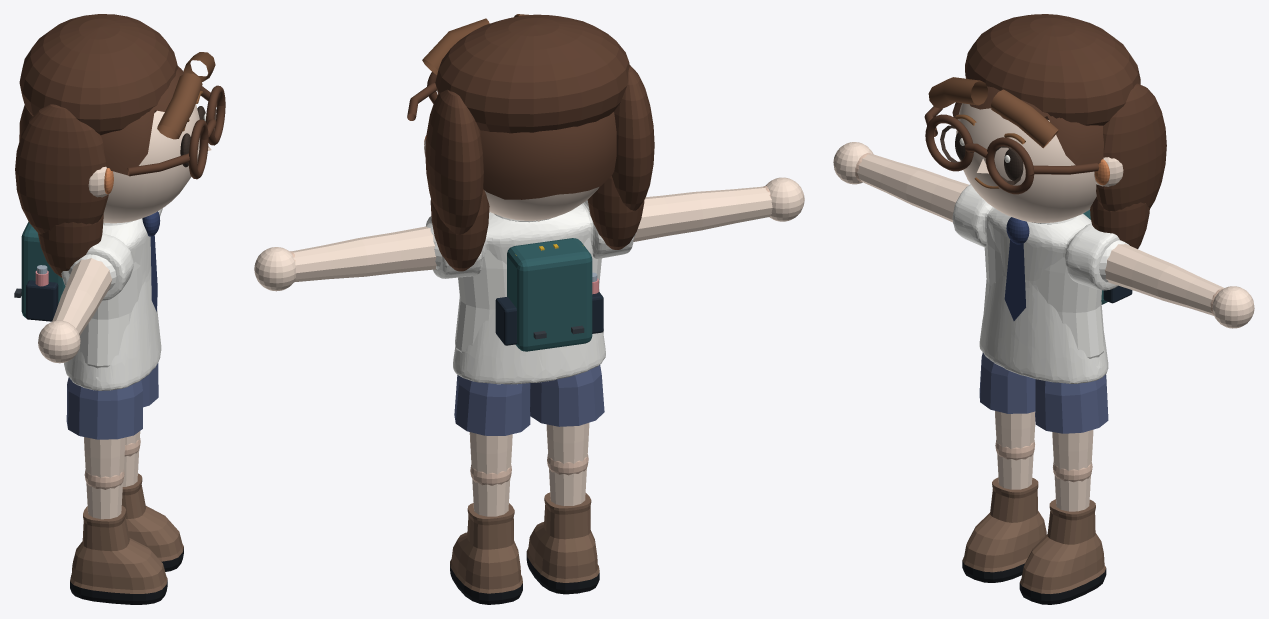
Rendered from Girl_School_Bag.glb.
3 renders of one model, left to right at view 1: azimuth 30°, elevation 25°; view 2: azimuth 150°, elevation 25°; view 3: azimuth 270°, elevation 25°, orthographic. The views are drawn at different scales.
Visible parts, largest first — view 1: Girl_School_Bag_Mesh_NPC_17_Penelope, Girl_School_Bag_Hair_Crown, Girl_School_Bag_Hair_Side_-1, Girl_School_Bag_Closed_Shirt_Liner, Girl_School_Bag_Backpack, Girl_School_Bag_Hair_Lock_-1, Girl_School_Bag_Fringe_-1, Girl_School_Bag, Girl_School_Bag_Glasses_Rim_-1, Girl_School_Bag_Glasses_Temple_-1, Girl_School_Bag_Knee_Seam_-1, Girl_School_Bag_Tie_Body (+2 smaller); view 2: Girl_School_Bag_Mesh_NPC_17_Penelope, Girl_School_Bag_Hair_Crown, Girl_School_Bag, Girl_School_Bag_Backpack, Girl_School_Bag_Hair_Side_-1, Girl_School_Bag_Closed_Shirt_Liner, Girl_School_Bag_Hair_Lock_-1; view 3: Girl_School_Bag_Mesh_NPC_17_Penelope, Girl_School_Bag_Hair_Crown, Girl_School_Bag, Girl_School_Bag_Closed_Shirt_Liner, Girl_School_Bag_Fringe_-1, Girl_School_Bag_Tie_Body, Girl_School_Bag_Glasses_Rim_-1.
Part boxes in pixels (left/top/right/bottom): Girl_School_Bag_Mesh_NPC_17_Penelope: left=19, top=66, right=216, bottom=604; Girl_School_Bag_Hair_Crown: left=19, top=14, right=177, bottom=135; Girl_School_Bag_Hair_Side_-1: left=15, top=104, right=108, bottom=234; Girl_School_Bag_Closed_Shirt_Liner: left=79, top=262, right=143, bottom=368; Girl_School_Bag_Backpack: left=14, top=222, right=65, bottom=321; Girl_School_Bag_Hair_Lock_-1: left=38, top=213, right=103, bottom=277; Girl_School_Bag_Fringe_-1: left=157, top=73, right=202, bottom=139; Girl_School_Bag: left=124, top=52, right=225, bottom=456; Girl_School_Bag_Glasses_Rim_-1: left=188, top=119, right=208, bottom=179; Girl_School_Bag_Glasses_Temple_-1: left=127, top=153, right=189, bottom=176; Girl_School_Bag_Knee_Seam_-1: left=84, top=469, right=124, bottom=489; Girl_School_Bag_Tie_Body: left=150, top=235, right=157, bottom=311; Girl_School_Bag_Mesh_NPC_17_Penelope: left=254, top=95, right=804, bottom=604; Girl_School_Bag_Hair_Crown: left=435, top=14, right=629, bottom=133; Girl_School_Bag: left=290, top=18, right=511, bottom=485; Girl_School_Bag_Backpack: left=495, top=238, right=603, bottom=351; Girl_School_Bag_Hair_Side_-1: left=611, top=65, right=654, bottom=210; Girl_School_Bag_Closed_Shirt_Liner: left=455, top=237, right=603, bottom=352; Girl_School_Bag_Hair_Lock_-1: left=587, top=176, right=644, bottom=249; Girl_School_Bag_Mesh_NPC_17_Penelope: left=833, top=86, right=1254, bottom=604; Girl_School_Bag_Hair_Crown: left=965, top=14, right=1140, bottom=125; Girl_School_Bag: left=985, top=83, right=1223, bottom=482; Girl_School_Bag_Closed_Shirt_Liner: left=983, top=227, right=1104, bottom=358; Girl_School_Bag_Fringe_-1: left=928, top=77, right=987, bottom=108; Girl_School_Bag_Tie_Body: left=1004, top=240, right=1025, bottom=320; Girl_School_Bag_Glasses_Rim_-1: left=925, top=114, right=973, bottom=171.
Bounding box in the file's own units: 1.59 × 2.48 × 1.74.
